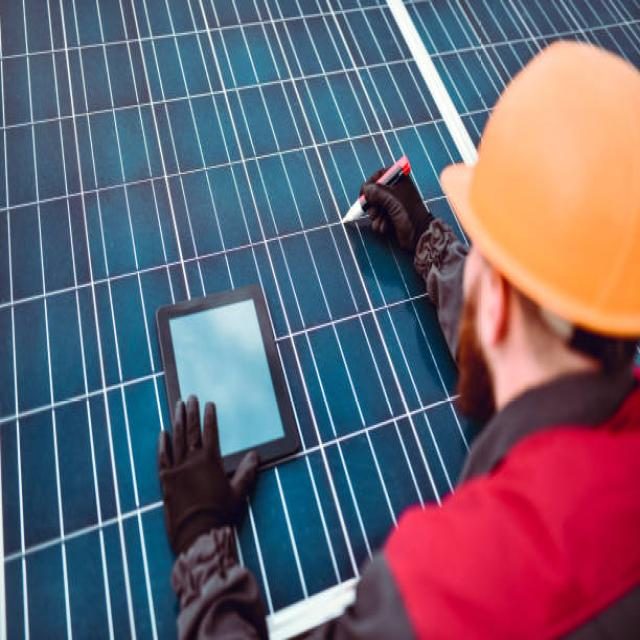gloves: (156, 392, 257, 555), (359, 163, 434, 256)
